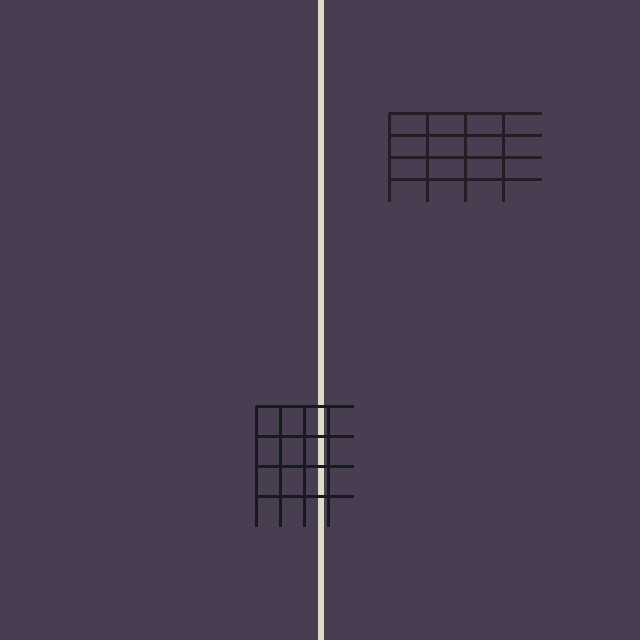alligator_crack: (389, 113, 541, 201), (256, 406, 353, 526)
